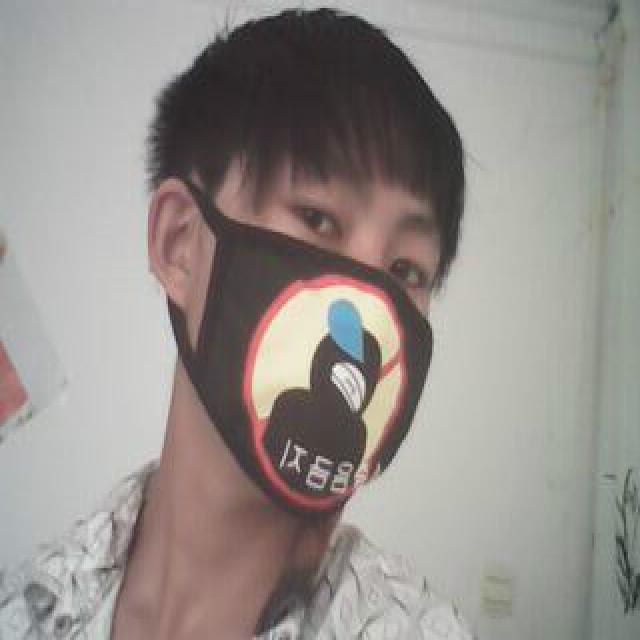mask: (196, 149, 432, 512)
